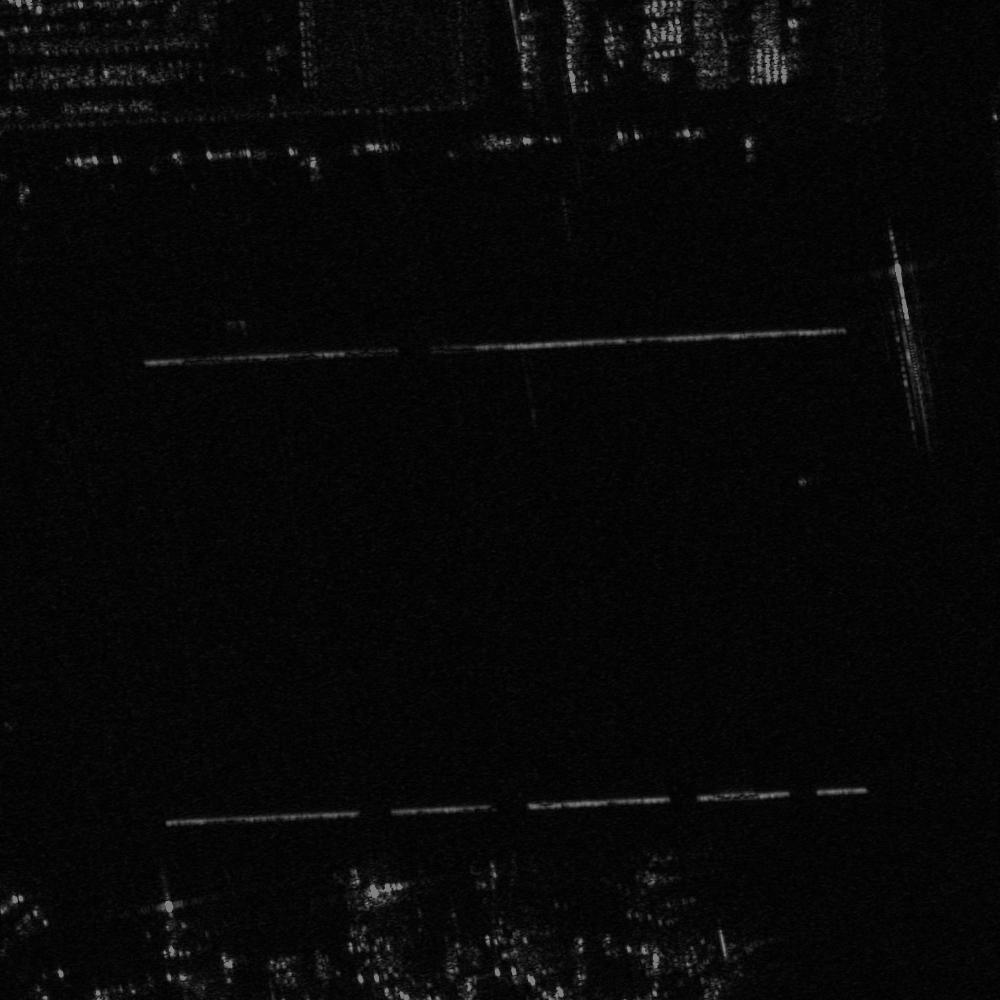A220: (136, 886, 200, 938)
A320/321: (617, 864, 695, 932), (338, 864, 415, 923)
